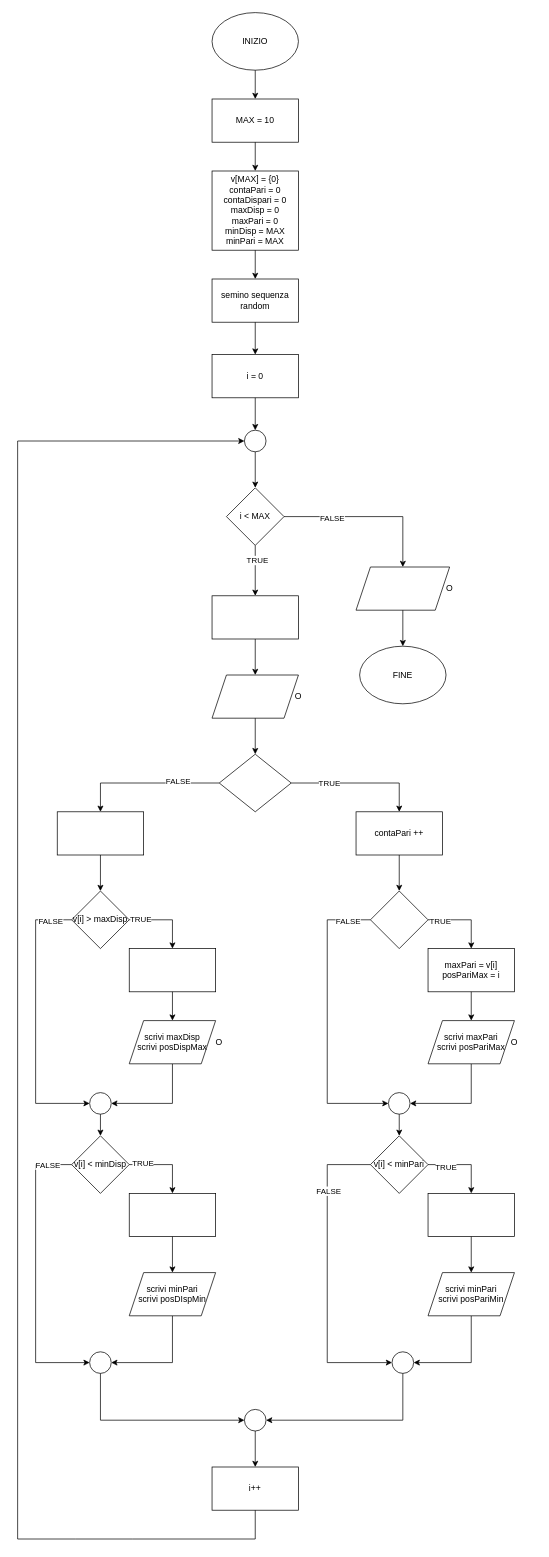
Image size: 549x1557. Some labels were removed from this diagram. The box of each missing label's shape, as (x1, y1, x2, y2) in pixels:
(v[i] % 2) == 0: (219, 753, 291, 812)
contaDispari++: (57, 811, 144, 855)
maxDisp = v[i] posDispMax = i: (129, 948, 216, 992)
minDisp = v[i] posDispMin = i: (129, 1193, 216, 1237)
minPari = v[i] posPariMin = i: (427, 1193, 514, 1237)
scrivi contaPari scrivi contaDispari scrivi posMaxDisp: (355, 566, 450, 610)
scrivi v[i]: (211, 674, 298, 718)
v[i] = genero num random: (211, 595, 298, 639)
v[i] > maxPari: (370, 890, 428, 949)
